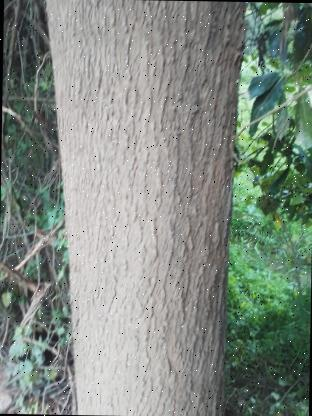tree: (33, 0, 250, 416)
